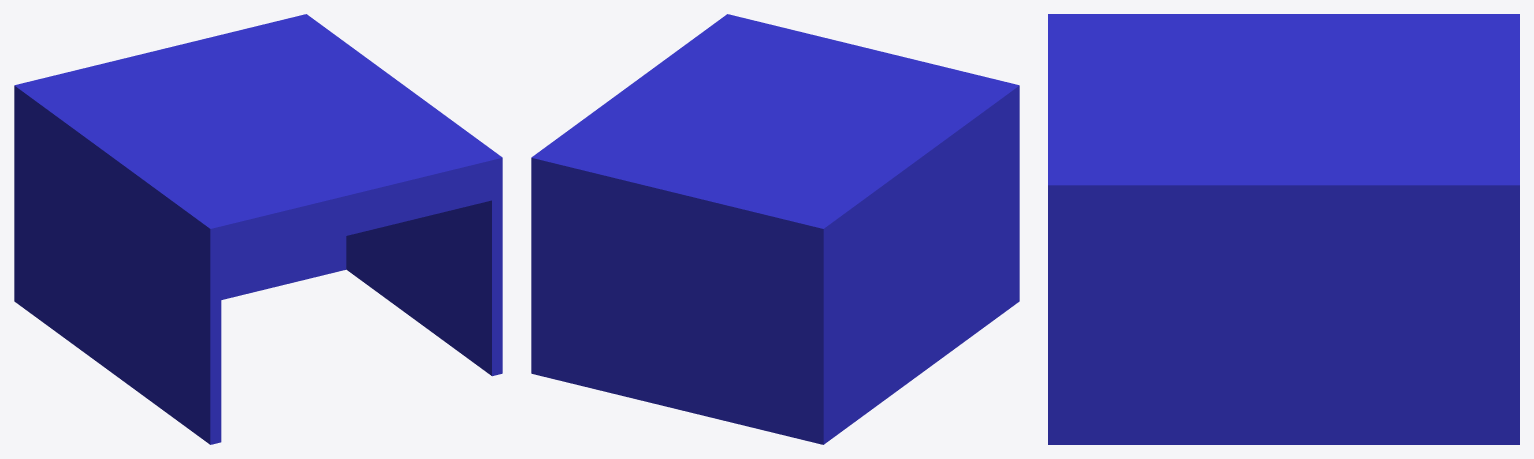
The model's file is cones-box.dae.
3 renders of one model, left to right at view 1: azimuth 30°, elevation 25°; view 2: azimuth 150°, elevation 25°; view 3: azimuth 270°, elevation 25°, orthographic. The views are drawn at different scales.
Parts seen in each view (by area): view 1: group_0; view 2: group_0; view 3: group_0.
Part boxes in pixels (x1,y1,x2,y2): group_0: (14, 14, 502, 444); group_0: (531, 14, 1019, 444); group_0: (1048, 14, 1519, 444).
Bounding box in the file's own units: 41.3 × 48.03 × 29.15.
